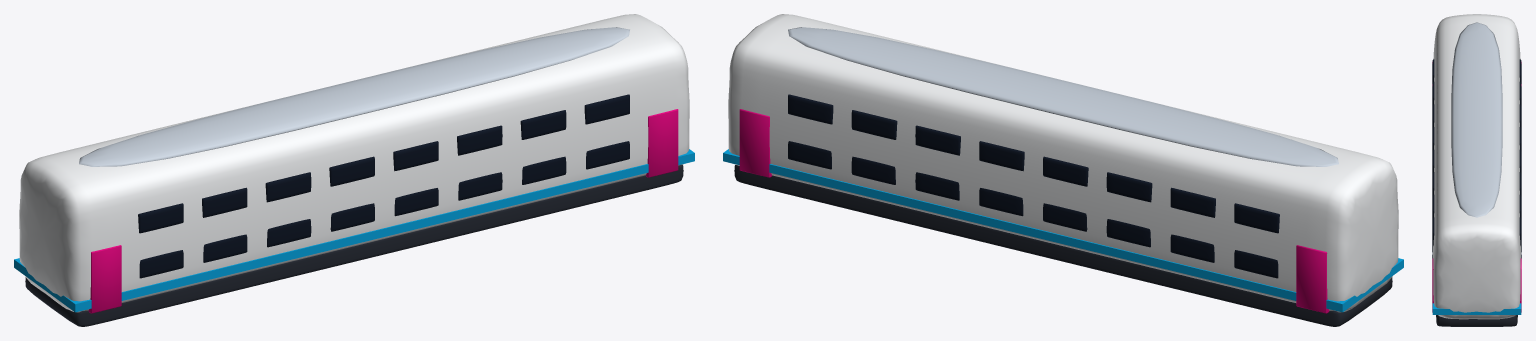
The model's file is tren_ouigo_coche.glb.
3 renders of one model, left to right at view 1: azimuth 30°, elevation 25°; view 2: azimuth 150°, elevation 25°; view 3: azimuth 270°, elevation 25°, orthographic. The views are drawn at different scales.
Visible parts, largest first — view 1: CajaCoche, TechoCoche, Cube, Cube.001, Cube.018, Cube.019, Cube.016, Cube.011, Cube.015, Cube.012, Cube.010, Cube.014 (+10 smaller); view 2: CajaCoche, TechoCoche, Cube, Cube.001, Cube.018, Cube.019, Cube.016, Cube.011, Cube.015, Cube.012, Cube.010, Cube.014 (+10 smaller); view 3: CajaCoche, TechoCoche, Cube, Cube.001, Cube.019, Cube.017, Cube.010, Cube.012, Cube.015, Cube.011, Cube.013, Cube.014 (+1 smaller).
Part boxes in pixels (x1,y1,x2,y2): CajaCoche: [19, 14, 689, 312]; TechoCoche: [79, 27, 629, 166]; Cube: [25, 165, 683, 326]; Cube.001: [14, 149, 694, 312]; Cube.018: [88, 245, 121, 313]; Cube.019: [646, 109, 678, 177]; Cube.016: [520, 110, 566, 139]; Cube.011: [202, 187, 247, 217]; Cube.015: [457, 125, 502, 155]; Cube.012: [265, 172, 311, 202]; Cube.010: [138, 203, 183, 233]; Cube.014: [393, 141, 438, 171]; CajaCoche: [728, 14, 1398, 312]; TechoCoche: [788, 27, 1338, 166]; Cube: [734, 165, 1392, 326]; Cube.001: [723, 149, 1403, 312]; Cube.018: [1296, 245, 1329, 313]; Cube.019: [739, 109, 771, 177]; Cube.016: [851, 110, 897, 139]; Cube.011: [1170, 187, 1215, 217]; Cube.015: [915, 125, 960, 155]; Cube.012: [1106, 172, 1152, 202]; Cube.010: [1234, 203, 1279, 233]; Cube.014: [979, 141, 1024, 171]; CajaCoche: [1433, 14, 1520, 319]; TechoCoche: [1451, 22, 1502, 217]; Cube: [1436, 315, 1517, 326]; Cube.001: [1432, 303, 1521, 314]; Cube.019: [1432, 258, 1521, 312]; Cube.017: [1432, 217, 1521, 245]; Cube.010: [1432, 59, 1521, 83]; Cube.012: [1432, 104, 1521, 128]; Cube.015: [1432, 172, 1521, 196]; Cube.011: [1432, 82, 1521, 106]; Cube.013: [1432, 127, 1521, 151]; Cube.014: [1432, 149, 1521, 173].
Size of the model in its own units: 17.37 by 3.78 by 2.97.
